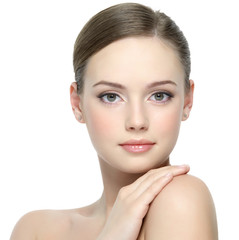teen: (66, 28, 179, 169)
